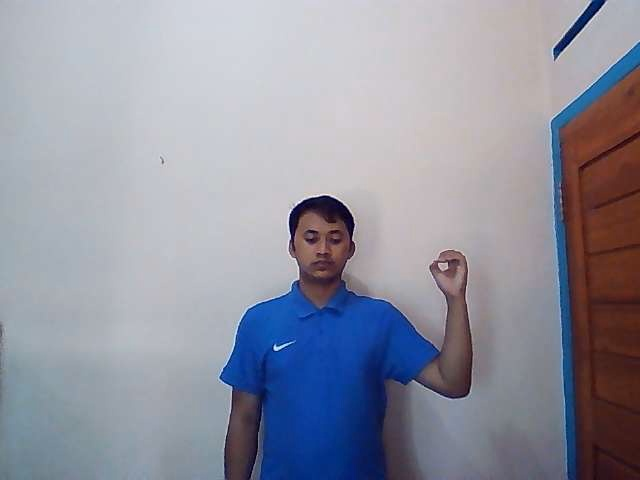O: (427, 247, 473, 300)
